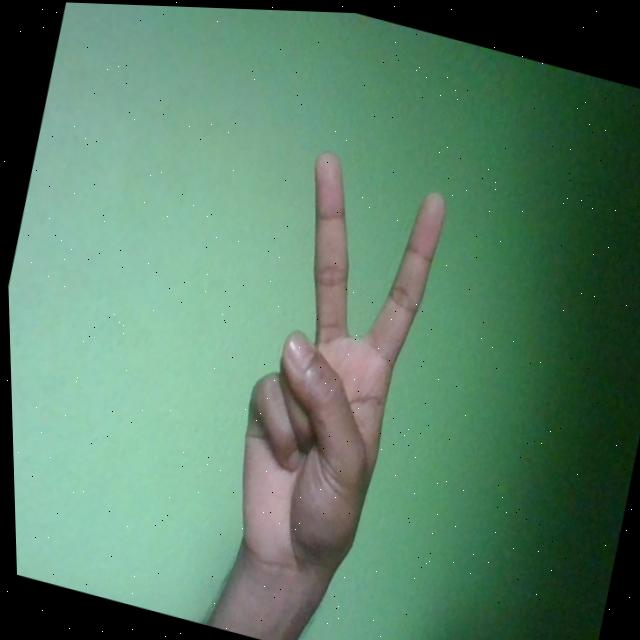Peace: (204, 136, 460, 598)
